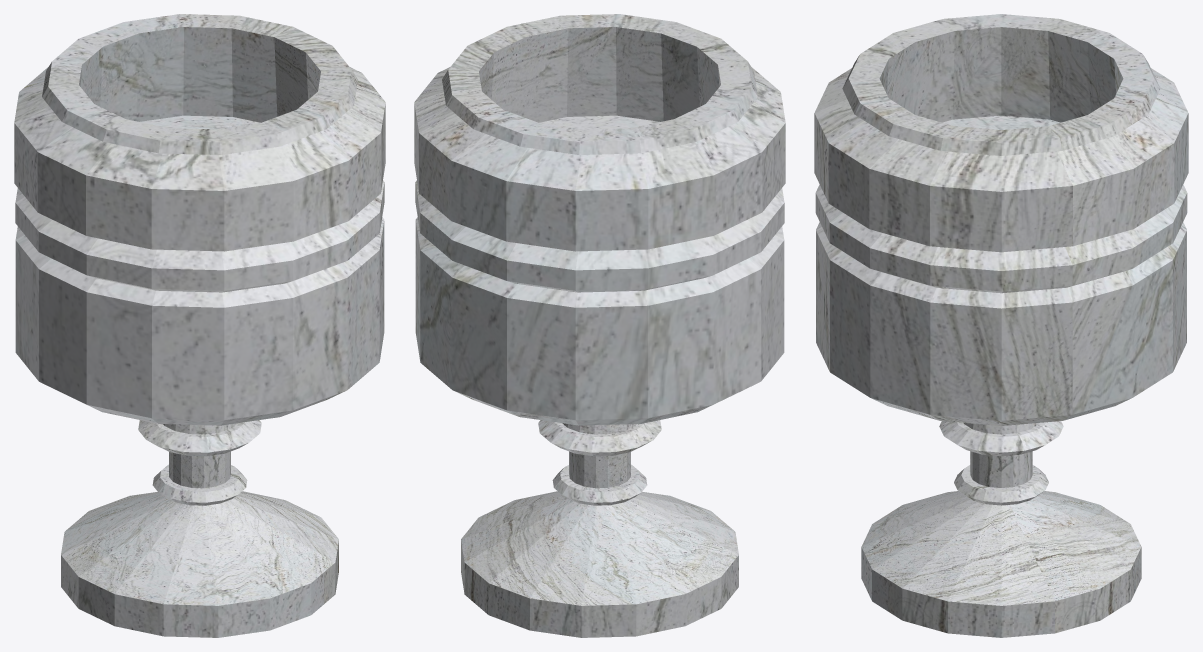
File: Planter_C.fbx
3 views of the same model, side by side, from view 1: azimuth 30°, elevation 25°; view 2: azimuth 150°, elevation 25°; view 3: azimuth 270°, elevation 25° (orthographic).
Parts seen in each view (by area): view 1: Planter_C_LOD0; view 2: Planter_C_LOD0; view 3: Planter_C_LOD0.
Part boxes in pixels (x1,y1,x2,y2): Planter_C_LOD0: [14, 14, 385, 637]; Planter_C_LOD0: [414, 14, 785, 637]; Planter_C_LOD0: [814, 14, 1188, 637].
Size of what is drawn, in the model's own units: 448 by 662 by 448.
